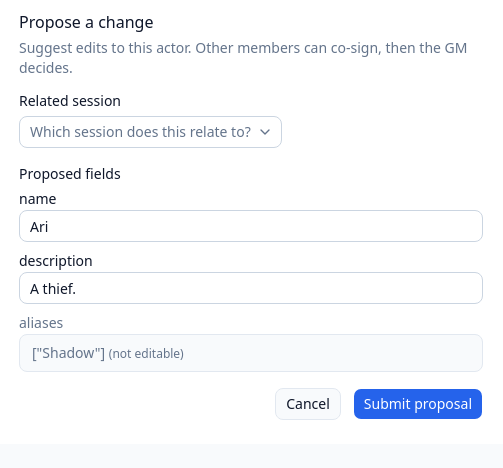
Test: ProposalSubmitForm › requires a session before submitting
Click the button "Submit proposal" at (418,404), box top-left (353, 388), bottom-right (483, 420)
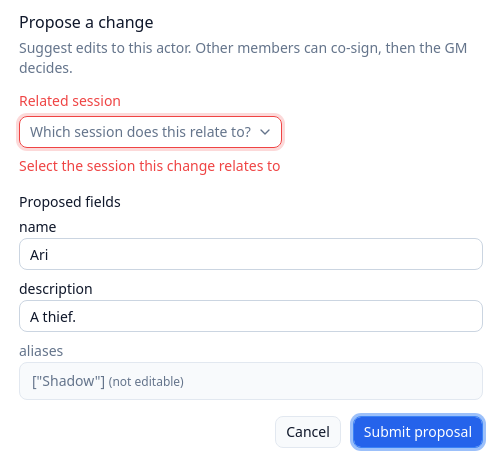
Expected: the text "Select the session this change relates to" is shown, top-left (19, 156), bottom-right (280, 175)
